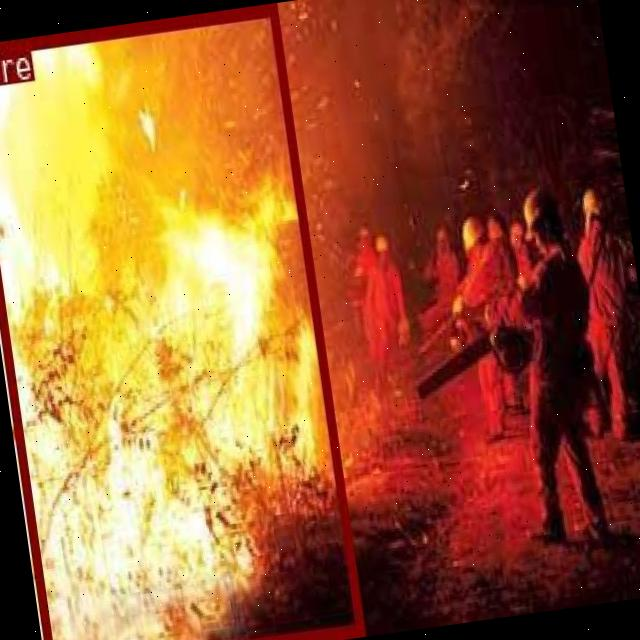fire: (0, 3, 361, 640)
